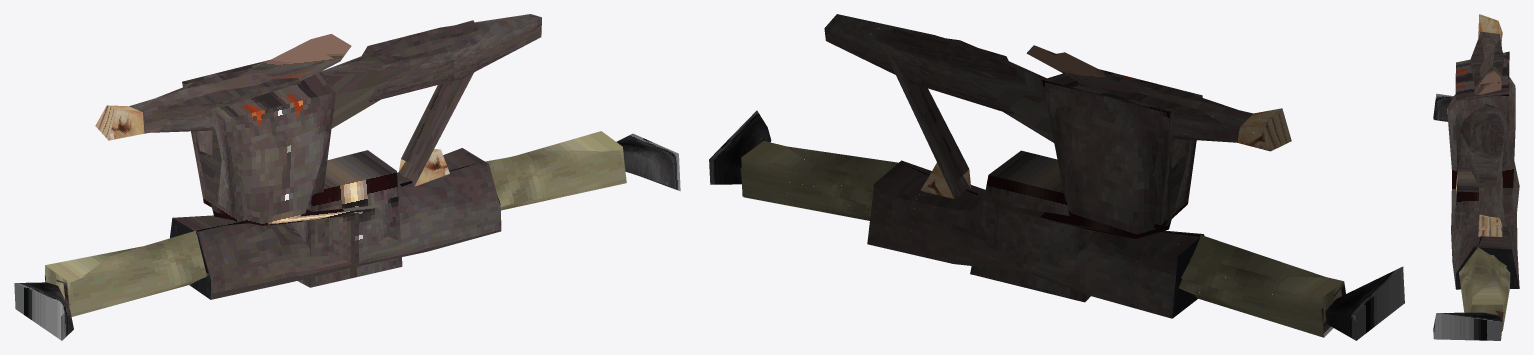
Rendered from Cgreatguard2Z.obj.
The picture shows the model from 3 angles, left to right: view 1: azimuth 30°, elevation 25°; view 2: azimuth 150°, elevation 25°; view 3: azimuth 270°, elevation 25°; orthographic projection. The views are drawn at different scales.
Bounding box in the file's own units: 2107 × 710 × 352.
Materials: 19 (19 with a texture image).
